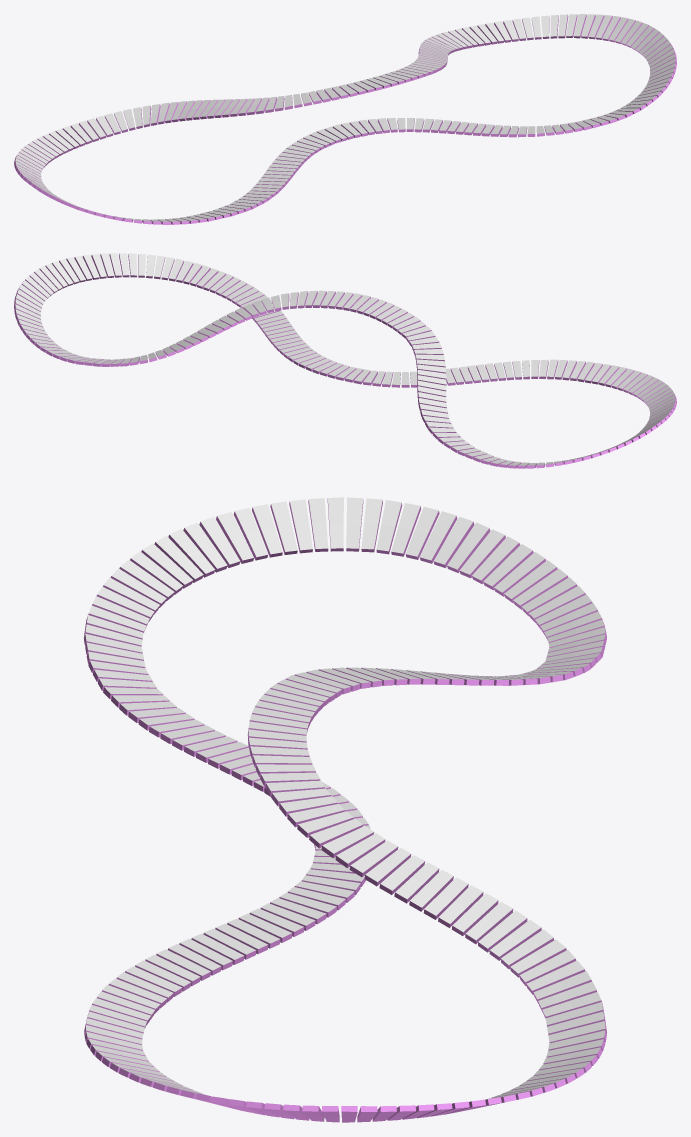
File: TrainTrack.fbx
The picture shows the model from 3 angles, top to bottom: view 1: azimuth 30°, elevation 25°; view 2: azimuth 150°, elevation 25°; view 3: azimuth 270°, elevation 25°; orthographic projection. The views are drawn at different scales.
Visible parts, largest first — view 1: TrainTrack; view 2: TrainTrack; view 3: TrainTrack.
Boxes of the visible parts, x1,y1,x2,y2 form: TrainTrack: (14, 14, 676, 224); TrainTrack: (14, 253, 676, 468); TrainTrack: (84, 497, 606, 1122).
Bounding box in the file's own units: 61.94 × 5.86 × 22.41.
